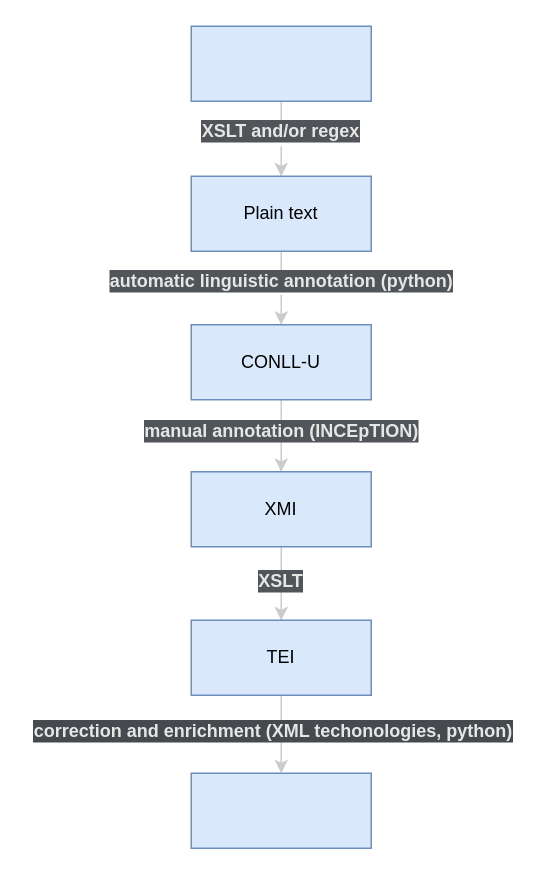
Some shapes in this 546 by 875 pixel diagram are drawn without their labels. Here are the shapes that lost their labels. From the top down, the centre of each, then its label:
the point at 280,63: Source texts (XML, HTML..)
the point at 280,810: TEI +
